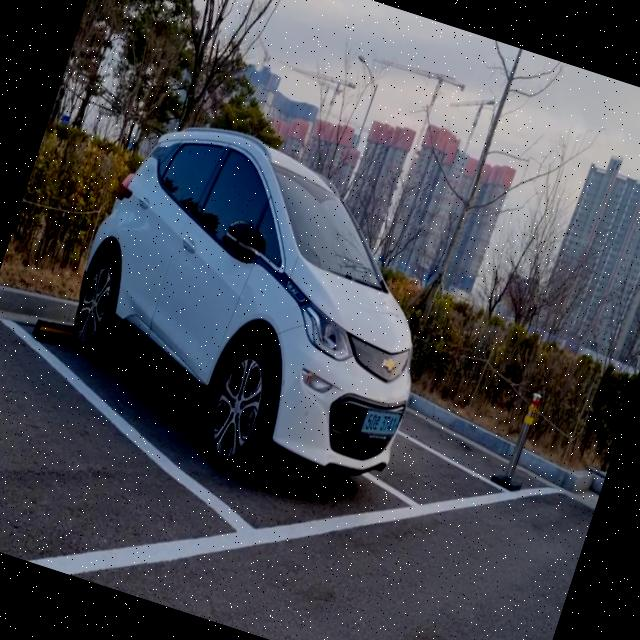empty: (374, 373, 538, 540)
occupied: (0, 79, 512, 577)
